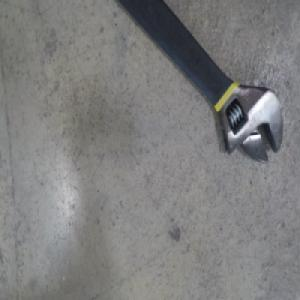AdjustableWrench: (113, 0, 281, 166)
